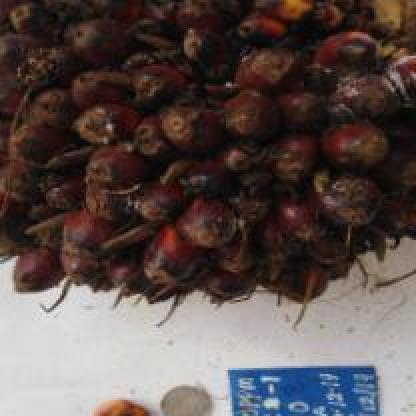underripe: (0, 0, 416, 324)
